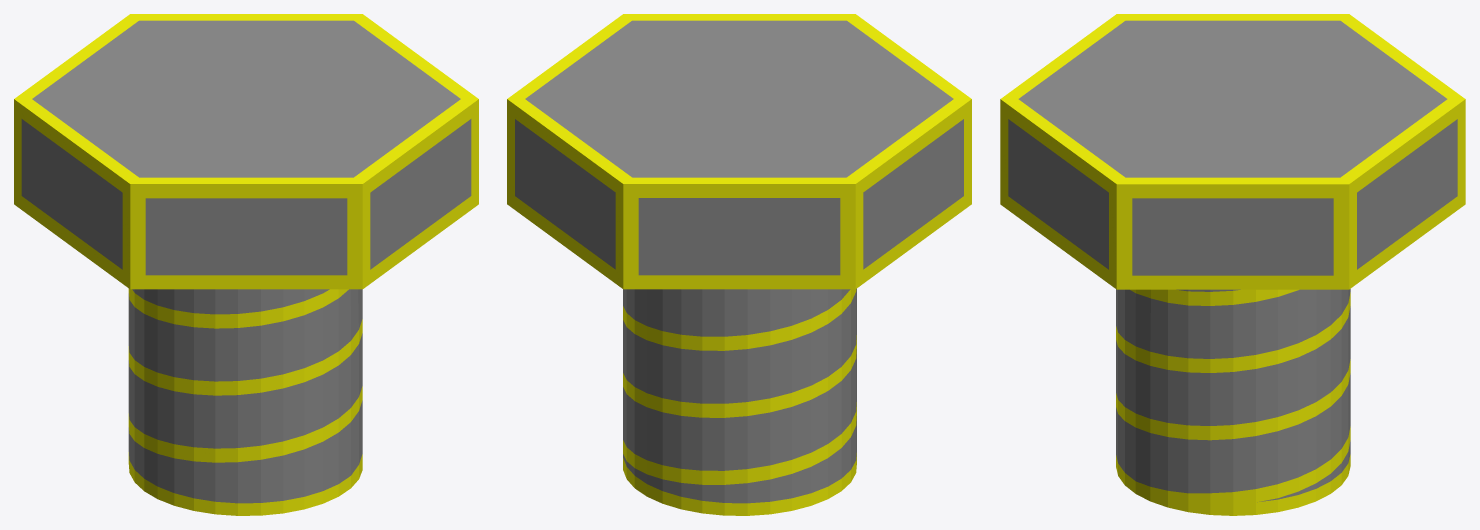
File: bolt.glb
The picture shows the model from 3 angles, left to right: view 1: azimuth 30°, elevation 25°; view 2: azimuth 150°, elevation 25°; view 3: azimuth 270°, elevation 25°; orthographic projection.
Visible parts, largest first — view 1: Cylinder; view 2: Cylinder; view 3: Cylinder.
Part boxes in pixels (<box>): Cylinder: <box>14,14,478,515</box>; Cylinder: <box>507,14,971,515</box>; Cylinder: <box>1000,14,1465,515</box>.
Bounding box in the file's own units: 1.04 × 1.05 × 1.2.
